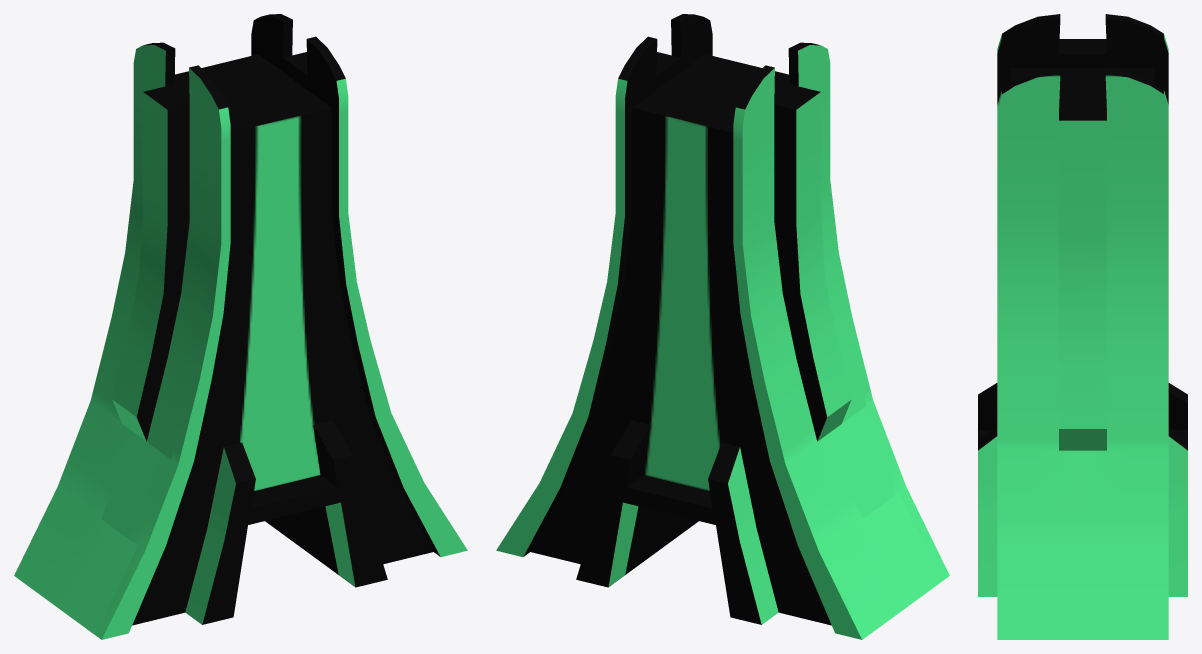
File: Building_5.obj
3 renders of one model, left to right at view 1: azimuth 30°, elevation 25°; view 2: azimuth 150°, elevation 25°; view 3: azimuth 270°, elevation 25°, orthographic. The views are drawn at different scales.
Visible parts, largest first — view 1: building_5; view 2: building_5; view 3: building_5.
Part boxes in pixels (x1,y1,x2,y2): building_5: (14, 14, 467, 639); building_5: (496, 14, 949, 639); building_5: (978, 14, 1187, 639).
Bounding box in the file's own units: 26.34 × 35.71 × 13.36.
1 material, 1 textured.
